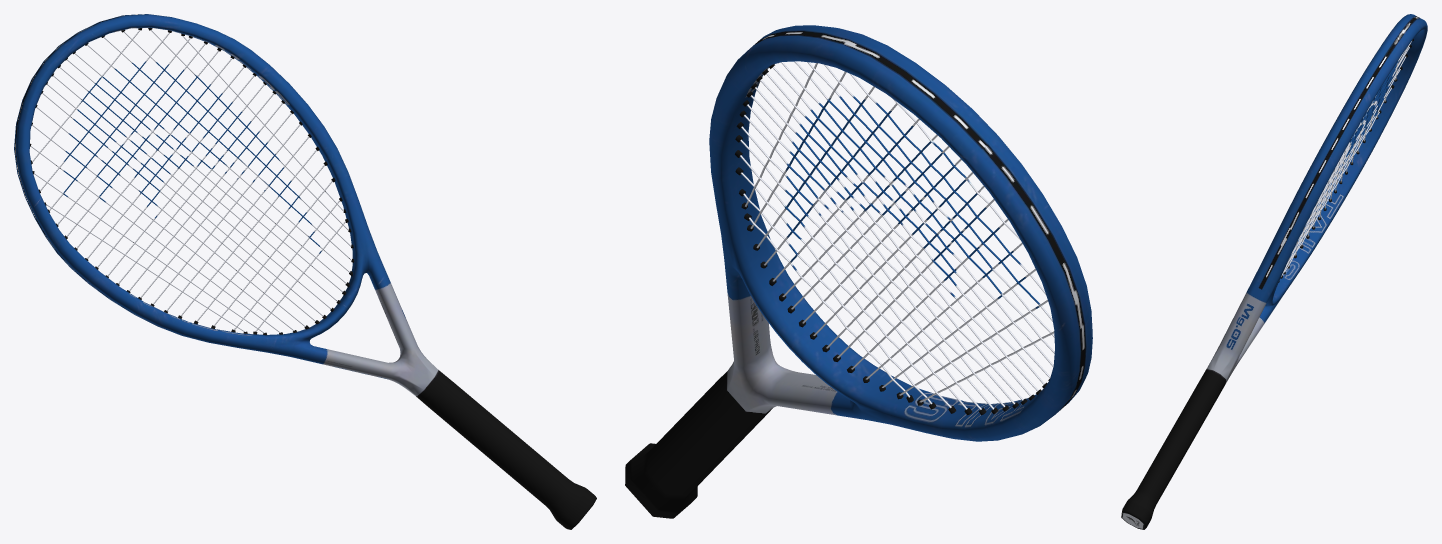
Rendered from tails-magnum-mg05.glb.
The picture shows the model from 3 angles, left to right: view 1: azimuth 30°, elevation 25°; view 2: azimuth 150°, elevation 25°; view 3: azimuth 270°, elevation 25°; orthographic projection. The views are drawn at different scales.
Visible parts, largest first — view 1: Tails_PowerShoot_r_low, Tails_PowerShoot_l_low, Tails_PowerShoot_lt_low; view 2: Tails_PowerShoot_r_low, Tails_PowerShoot_l_low, Tails_PowerShoot_lt_low; view 3: Tails_PowerShoot_r_low, Tails_PowerShoot_l_low.
Part boxes in pixels (left/top/right/bottom): Tails_PowerShoot_r_low: left=14, top=14, right=596, bottom=529; Tails_PowerShoot_l_low: left=30, top=30, right=351, bottom=333; Tails_PowerShoot_lt_low: left=30, top=28, right=354, bottom=335; Tails_PowerShoot_r_low: left=625, top=25, right=1092, bottom=518; Tails_PowerShoot_l_low: left=740, top=61, right=1054, bottom=409; Tails_PowerShoot_lt_low: left=735, top=63, right=1049, bottom=415; Tails_PowerShoot_r_low: left=1121, top=14, right=1427, bottom=529; Tails_PowerShoot_l_low: left=1281, top=41, right=1411, bottom=276.
Bounding box in the file's own units: 48.43 × 50.92 × 36.16.
Materials: 1 (1 with a texture image).
